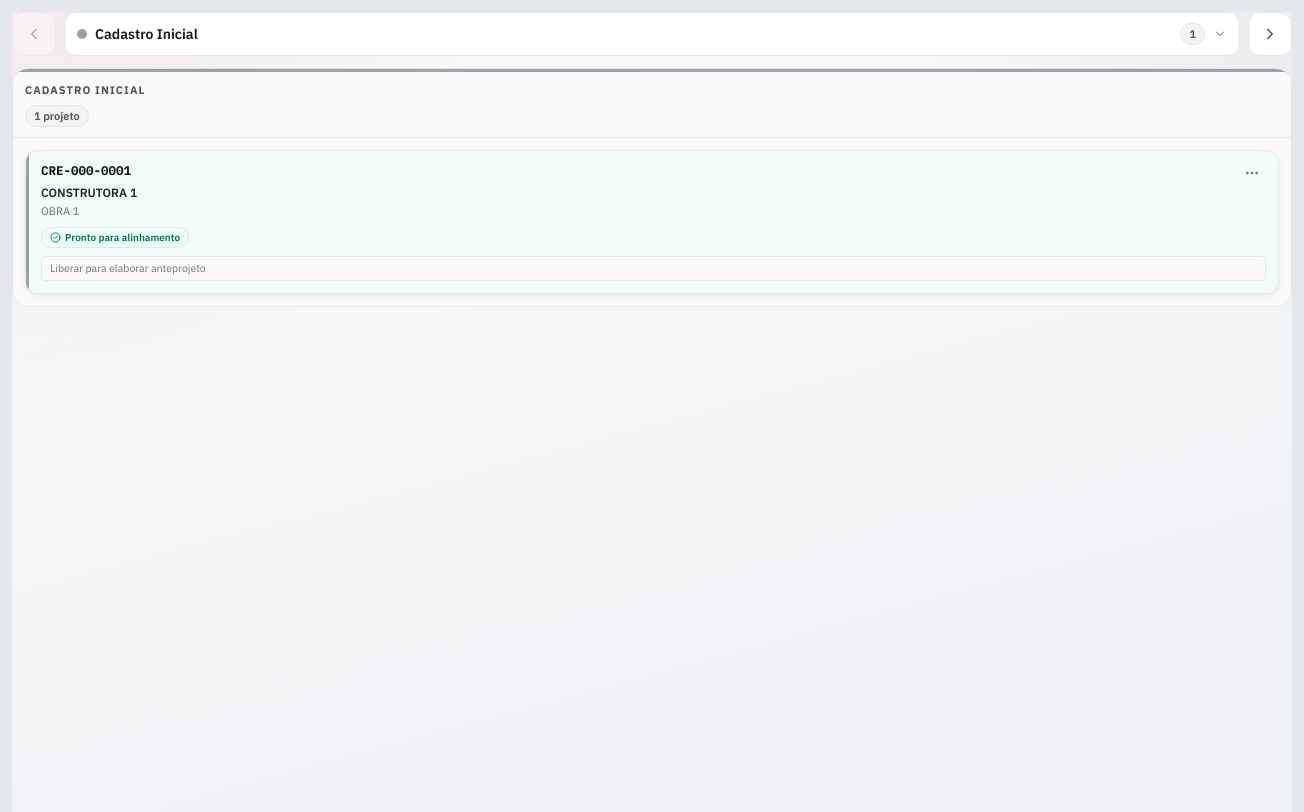
Mover para — destinos do fluxo › CADASTRO INICIAL → ["Elaborar Ante-Projeto"]
The image size is (1304, 812).
Click the button named "Abrir ações de CRE-000-0001" at (1252, 173), box [1230,151,1274,195]
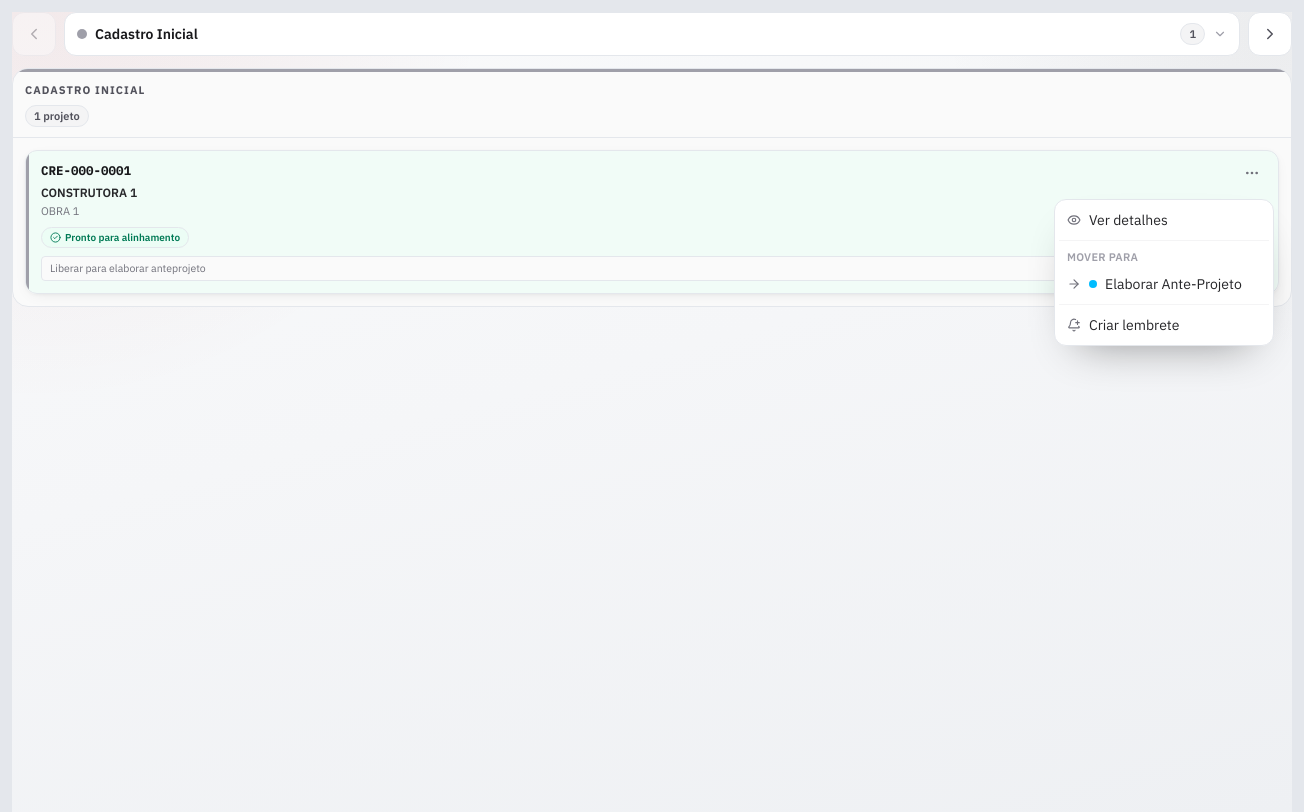
Expected: the text "Mover para" is shown, [1067,250,1138,264]
